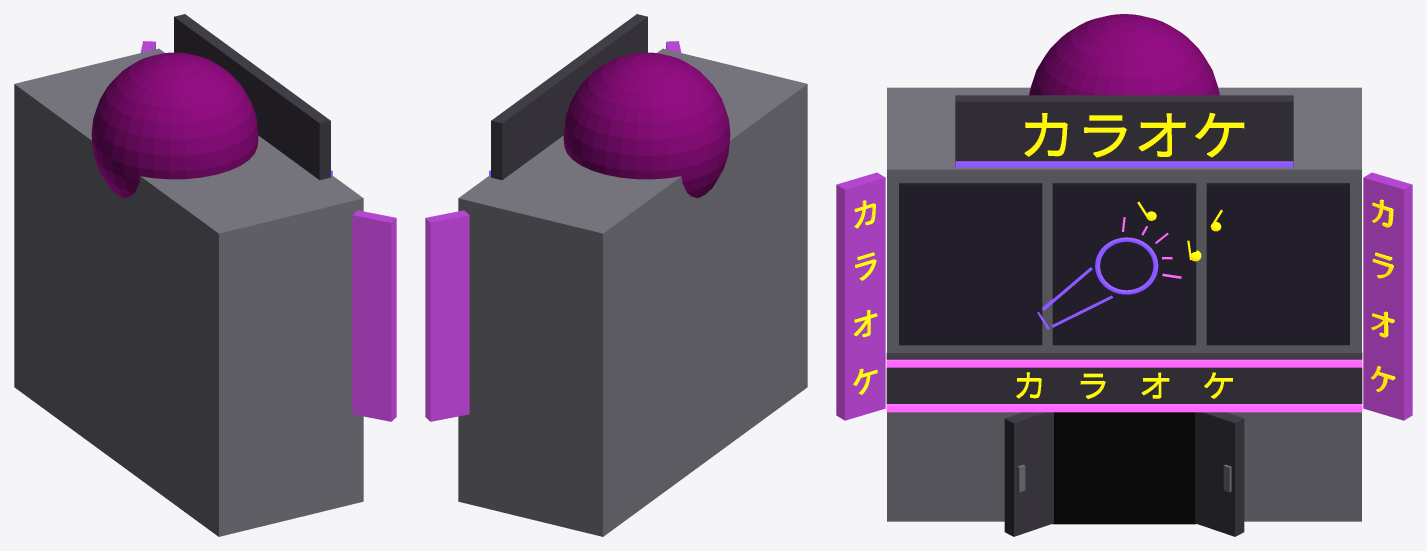
The model's file is karaokeBuilding.fbx.
3 views of the same model, side by side, from view 1: azimuth 30°, elevation 25°; view 2: azimuth 150°, elevation 25°; view 3: azimuth 270°, elevation 25° (orthographic). The views are drawn at different scales.
Visible parts, largest first — view 1: Main Building, Disco Ball, Side Sign Left, Top Sign; view 2: Main Building, Disco Ball, Side Sign Right, Top Sign; view 3: Main Building, Window Right, Window Left, Window Middle, Top Sign, Front Sign, Doorway, Disco Ball, Side Sign Left, Side Sign Right, Left Door, Right Door (+6 smaller).
Part boxes in pixels (box(x1,y1,x2,y2)): Main Building: box(14, 48, 363, 536); Disco Ball: box(91, 52, 258, 198); Side Sign Left: box(352, 210, 396, 421); Top Sign: box(174, 14, 330, 180); Main Building: box(458, 48, 807, 536); Disco Ball: box(563, 52, 730, 198); Side Sign Right: box(425, 210, 469, 421); Top Sign: box(491, 14, 647, 180); Main Building: box(887, 87, 1361, 521); Window Right: box(899, 183, 1042, 345); Window Left: box(1206, 183, 1349, 345); Window Middle: box(1052, 183, 1196, 345); Top Sign: box(955, 95, 1293, 167); Front Sign: box(886, 353, 1362, 403); Doorway: box(1053, 412, 1195, 524); Disco Ball: box(1029, 14, 1219, 95); Side Sign Left: box(836, 172, 885, 420); Side Sign Right: box(1363, 172, 1412, 420); Left Door: box(1004, 412, 1053, 536); Right Door: box(1195, 412, 1244, 536).
Bounding box in the file's own units: 256 × 513 × 594.
